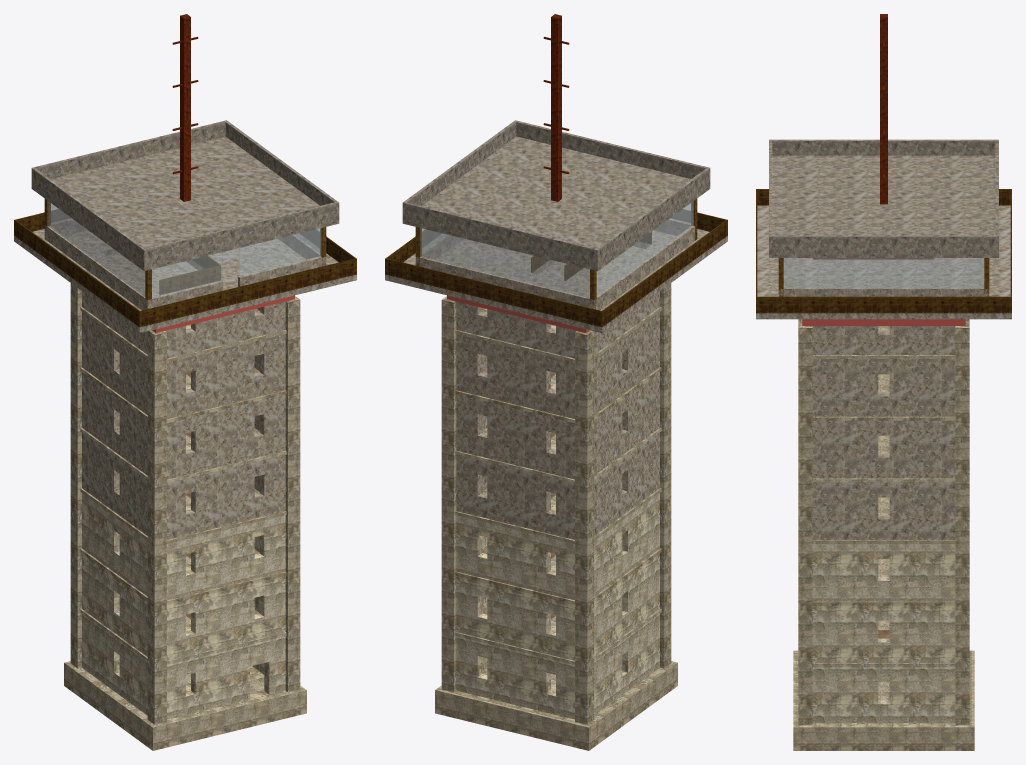
Rendered from bw-tower.bw-v1.lod1.glb.
The picture shows the model from 3 angles, left to right: view 1: azimuth 30°, elevation 25°; view 2: azimuth 150°, elevation 25°; view 3: azimuth 270°, elevation 25°; orthographic projection.
Parts seen in each view (by area): view 1: bw-tower; view 2: bw-tower; view 3: bw-tower.
Part boxes in pixels (bbox=[...]): bw-tower: bbox=[14, 14, 356, 750]; bw-tower: bbox=[385, 14, 727, 750]; bw-tower: bbox=[756, 14, 1011, 750].
Bounding box in the file's own units: 15.8 × 47.5 × 15.8.
Materials: 6 (4 with a texture image).
